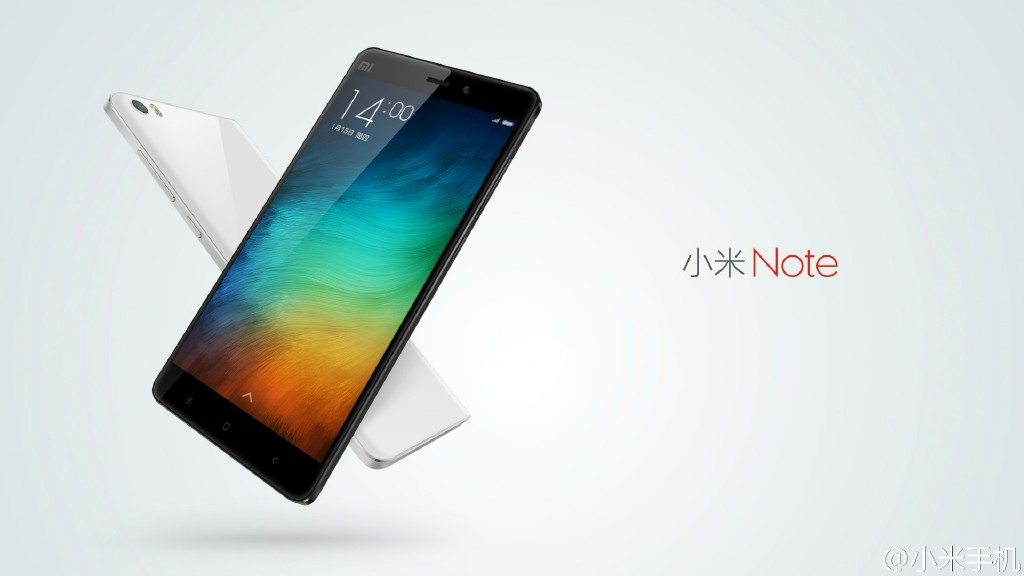smartphone: (152, 47, 541, 505), (102, 92, 471, 469)
